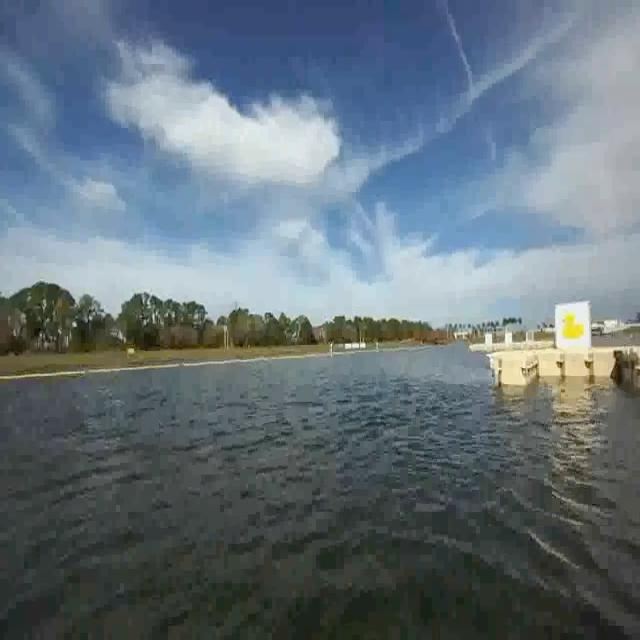yellow-duck: (558, 309, 584, 339)
